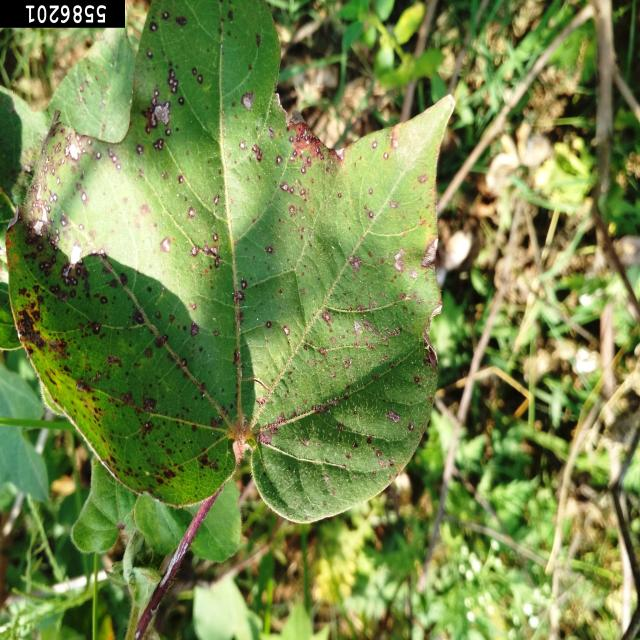Bacterial Blight: (22, 132, 202, 356), (249, 121, 351, 232)
